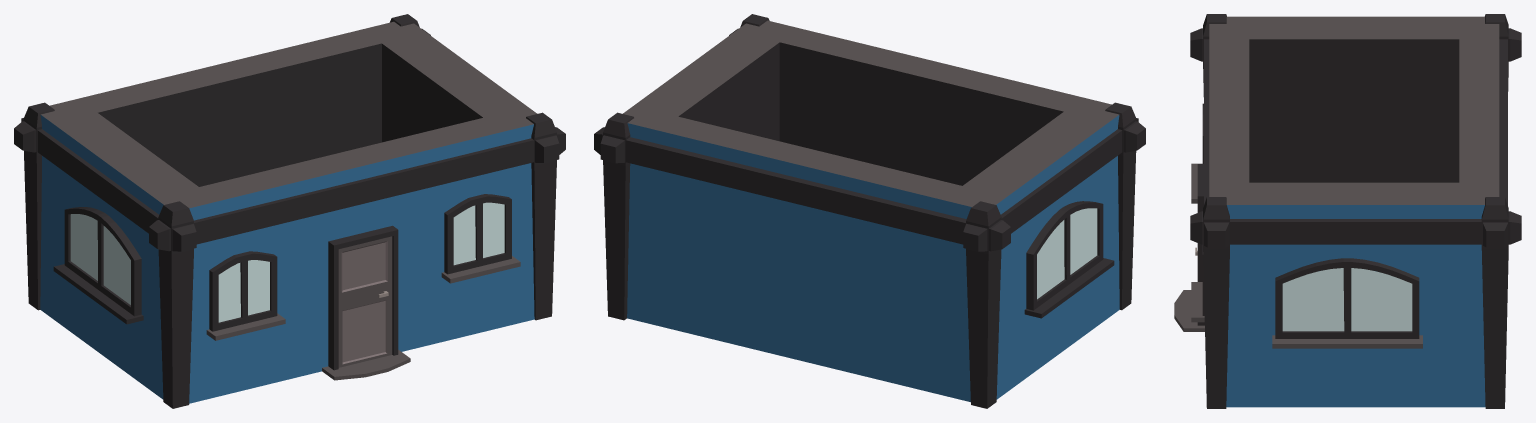
The model's file is Testhouse_Foundation.fbx.
3 renders of one model, left to right at view 1: azimuth 30°, elevation 25°; view 2: azimuth 150°, elevation 25°; view 3: azimuth 270°, elevation 25°, orthographic. The views are drawn at different scales.
Visible parts, largest first — view 1: Testhouse_Foundation; view 2: Testhouse_Foundation; view 3: Testhouse_Foundation.
Boxes of the visible parts, x1,y1,x2,y2 form: Testhouse_Foundation: [14, 14, 565, 408]; Testhouse_Foundation: [594, 14, 1145, 408]; Testhouse_Foundation: [1174, 14, 1521, 408].
Bounding box in the file's own units: 219 × 156 × 101.
